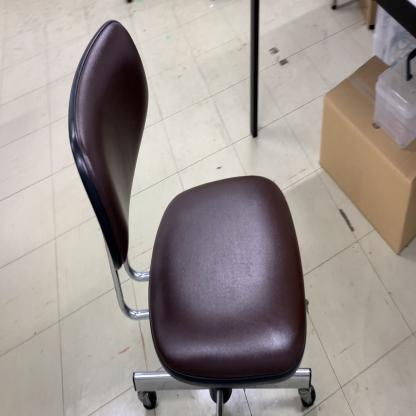chair: (66, 17, 316, 416)
